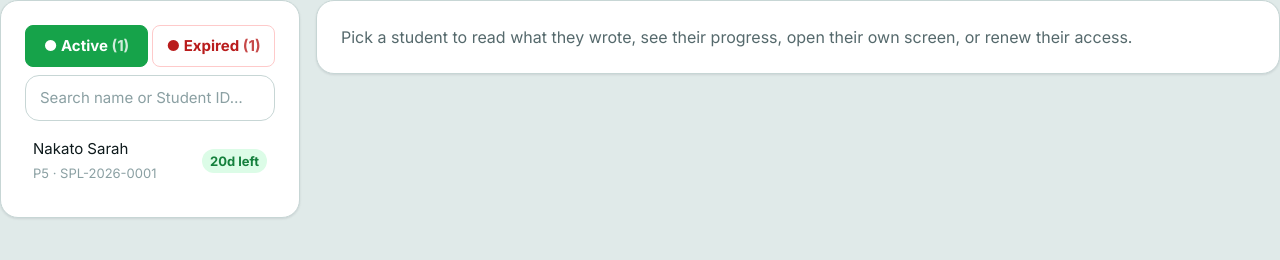
Students · Active and Deactivated tabs › the expired tab lists the student whose 30 days are done
Click the button "● Expired (1)".
click(214, 46)  # box [152,25,275,67]
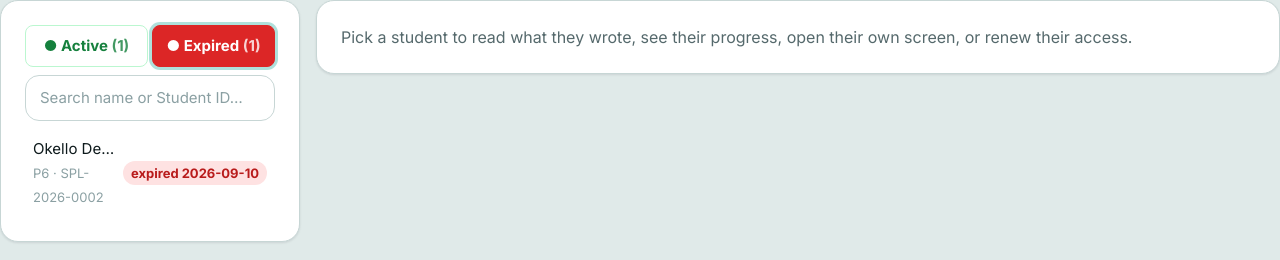
Expected: the text "Okello Denis" is shown, [33,137,119,161]
Expected: the button "Nakato Sarah" is gone
Expected: the text "expired 2026-09-10" is shown, [123,161,267,185]
